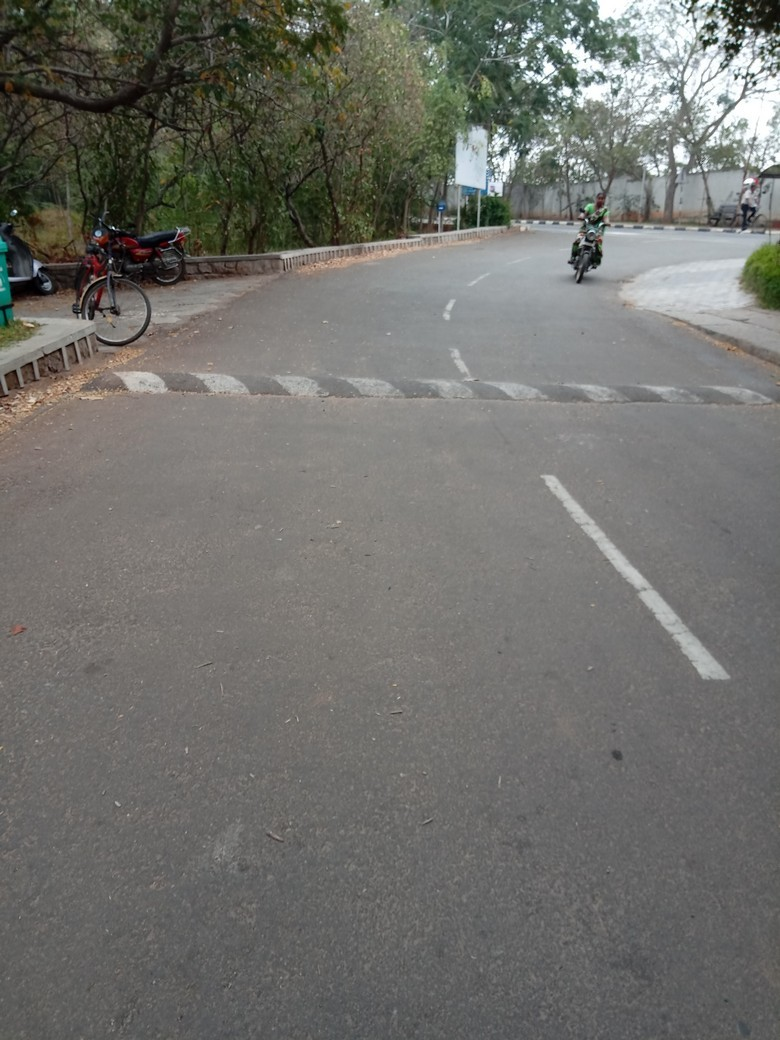bump: (62, 370, 780, 411)
